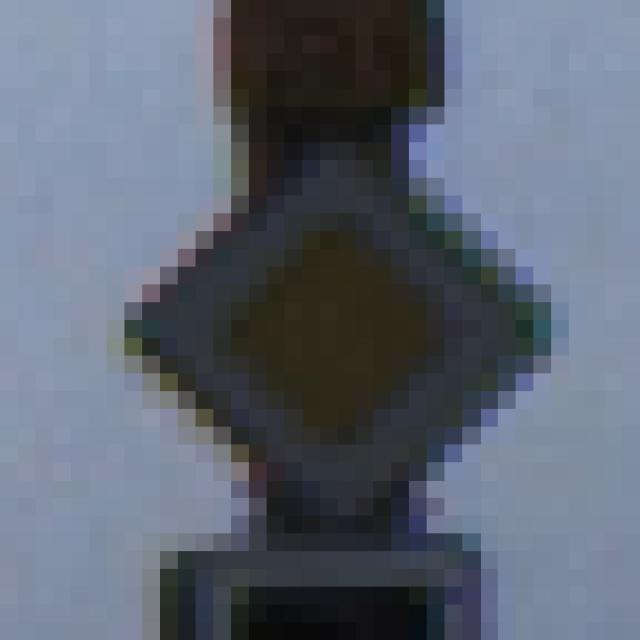Main Road: (90, 90, 552, 552)
